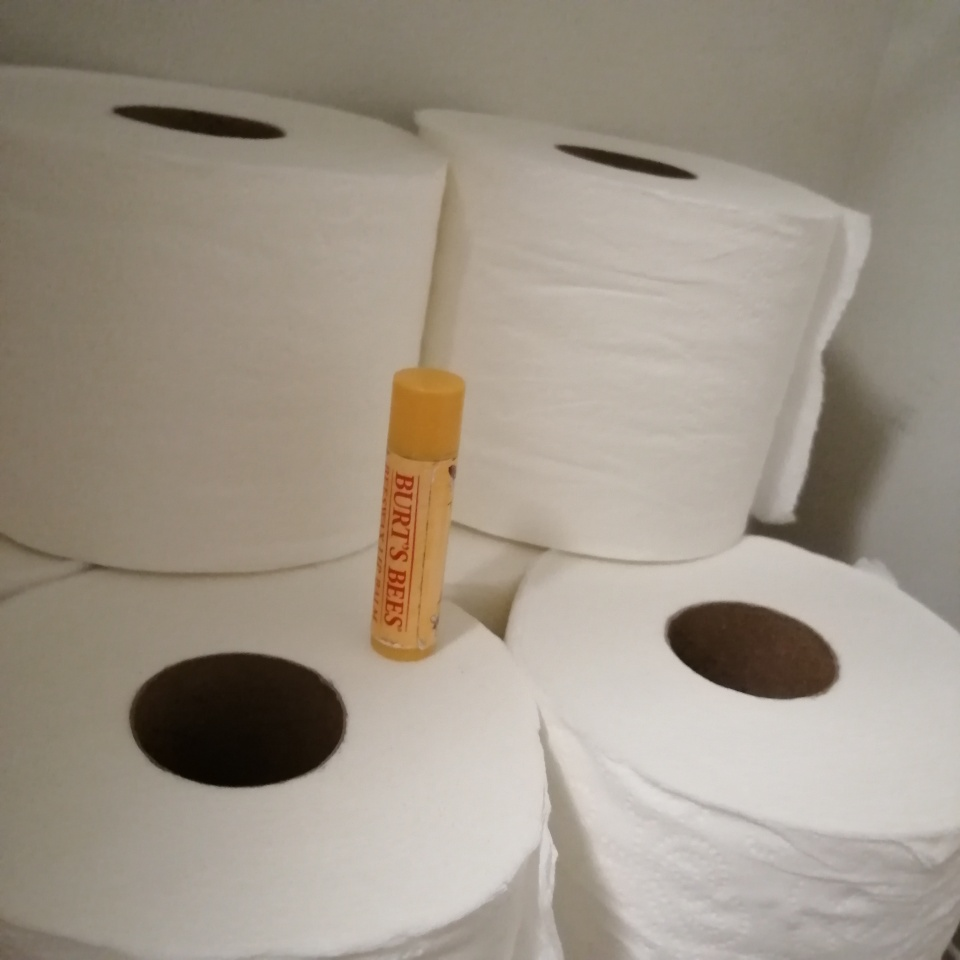chapstick: (370, 368, 468, 663)
